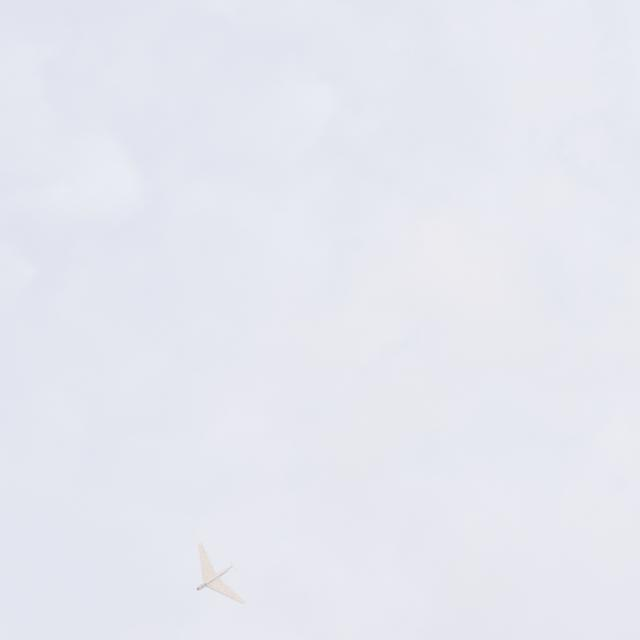Airaplan: (196, 542, 245, 604)
